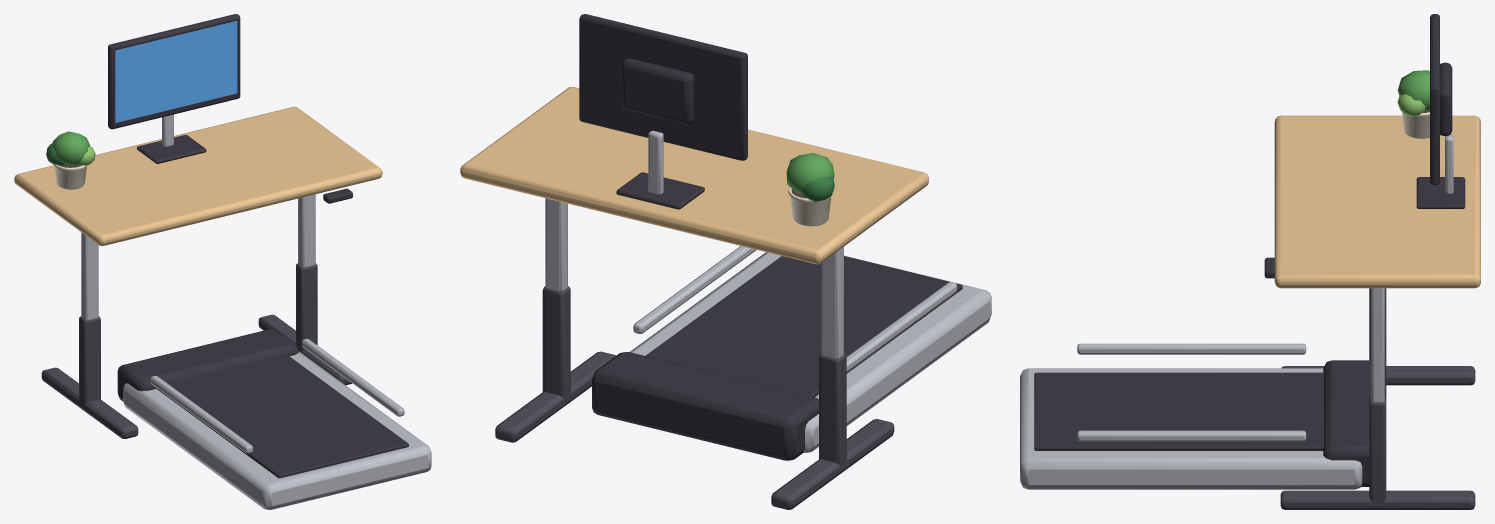
File: standing_desk_l3.glb
3 renders of one model, left to right at view 1: azimuth 30°, elevation 25°; view 2: azimuth 150°, elevation 25°; view 3: azimuth 270°, elevation 25°, orthographic. The views are drawn at different scales.
Visible parts, largest first — view 1: standing_desk_l3, standing_screen; view 2: standing_desk_l3; view 3: standing_desk_l3.
Boxes of the visible parts, bbox=[...] form: standing_desk_l3: bbox=[14, 14, 431, 509]; standing_screen: bbox=[115, 21, 237, 122]; standing_desk_l3: bbox=[460, 14, 991, 509]; standing_desk_l3: bbox=[1020, 14, 1480, 509].
Bounding box in the file's own units: 1.35 × 1.52 × 1.61.
